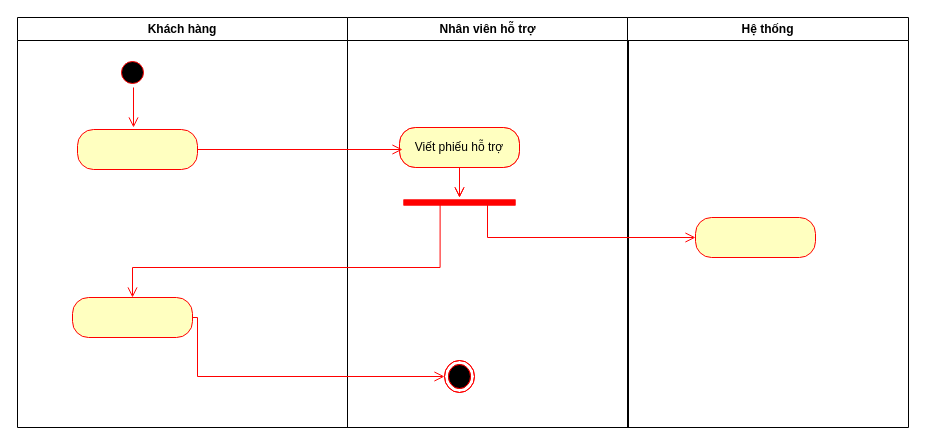
The diagram is 926 pixels wide and 445 high, and some of its shapes have lost their labels. Each missing label, with the centre of its shape:
"Lưu phiếu hỗ trợ" goes at (x=755, y=237).
"Thông báo ưu đãi" goes at (x=132, y=317).
"Yêu cầu hỗ trợ" goes at (x=137, y=149).
